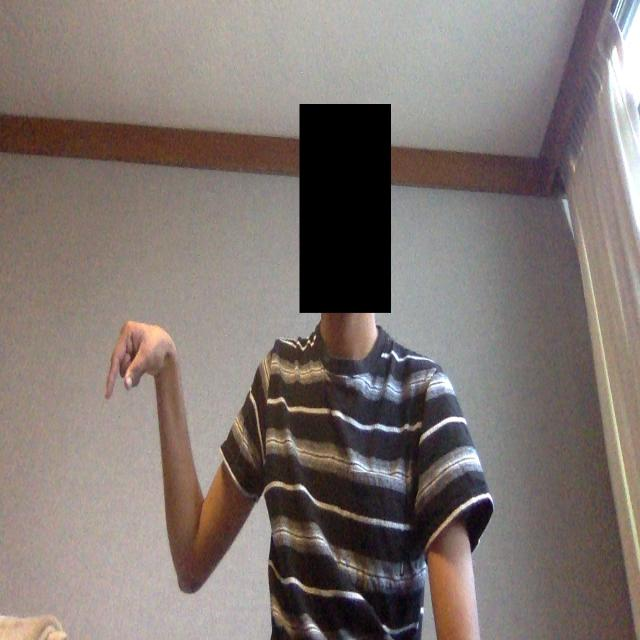Q: (99, 276, 192, 426)
